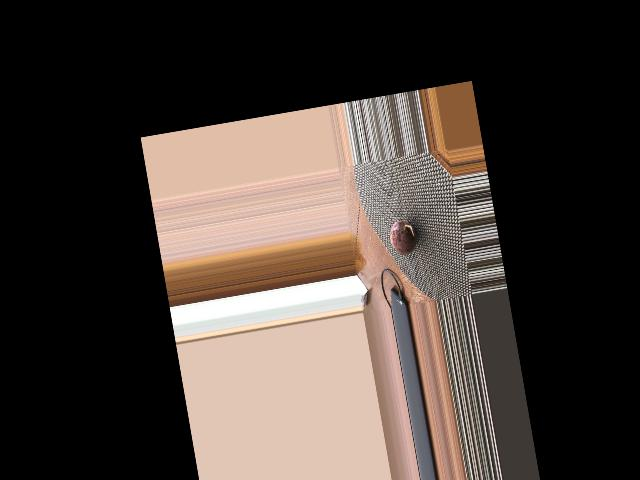beet: (387, 219, 419, 257)
